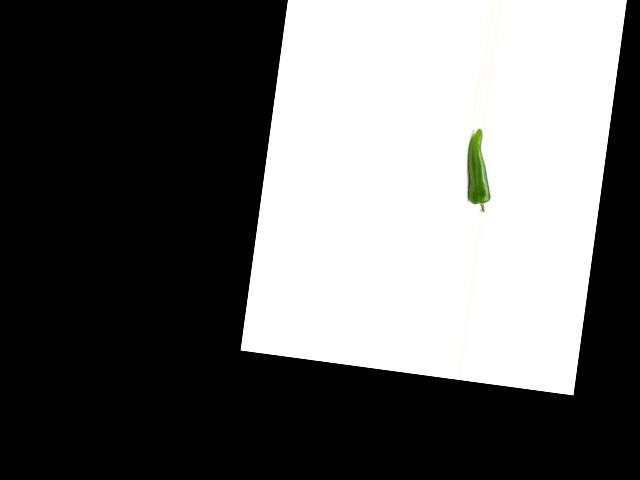bell_pepper: (458, 127, 500, 216)
